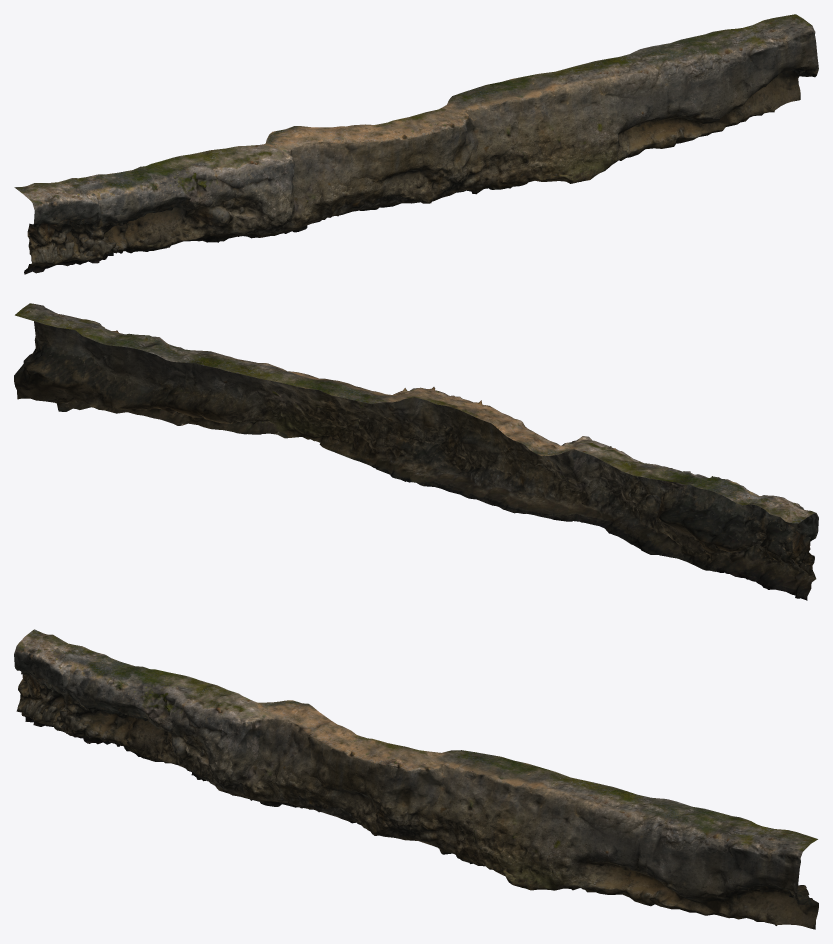
The model's file is cliff-a-lod.glb.
3 views of the same model, one above another, from view 1: azimuth 30°, elevation 25°; view 2: azimuth 150°, elevation 25°; view 3: azimuth 330°, elevation 25° (orthographic). The views are drawn at different scales.
Parts seen in each view (by area): view 1: coastal_cliff_01; view 2: coastal_cliff_01; view 3: coastal_cliff_01.
Part boxes in pixels (<box>): coastal_cliff_01: <box>14,14,818,274</box>; coastal_cliff_01: <box>14,303,818,600</box>; coastal_cliff_01: <box>14,629,818,929</box>.
Size of the model in its own units: 91.94 by 10.26 by 10.97.
Materials: 1 (1 with a texture image).
